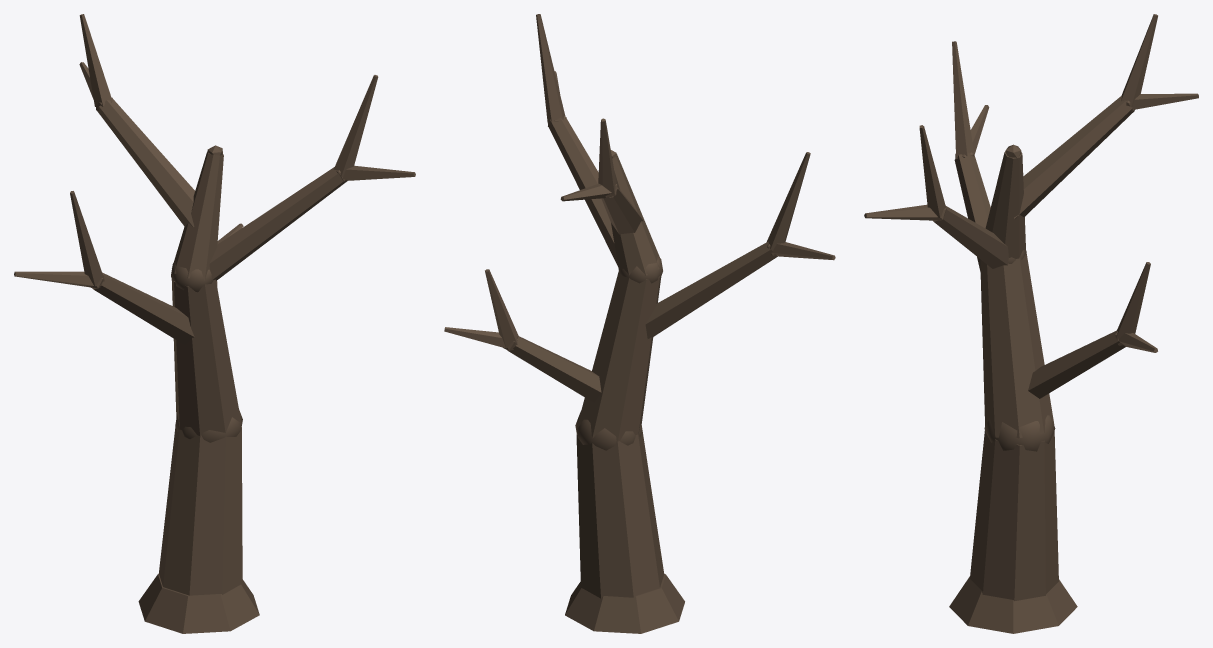
File: p_tree_dead_1.glb
The picture shows the model from 3 angles, left to right: view 1: azimuth 30°, elevation 25°; view 2: azimuth 150°, elevation 25°; view 3: azimuth 270°, elevation 25°; orthographic projection. The views are drawn at different scales.
Parts seen in each view (by area): view 1: body; view 2: body; view 3: body.
Boxes of the visible parts, x1,y1,x2,y2 form: body: [14, 14, 415, 633]; body: [444, 14, 835, 633]; body: [864, 14, 1198, 633].
Bounding box in the file's own units: 3.15 × 4.9 × 2.6.
